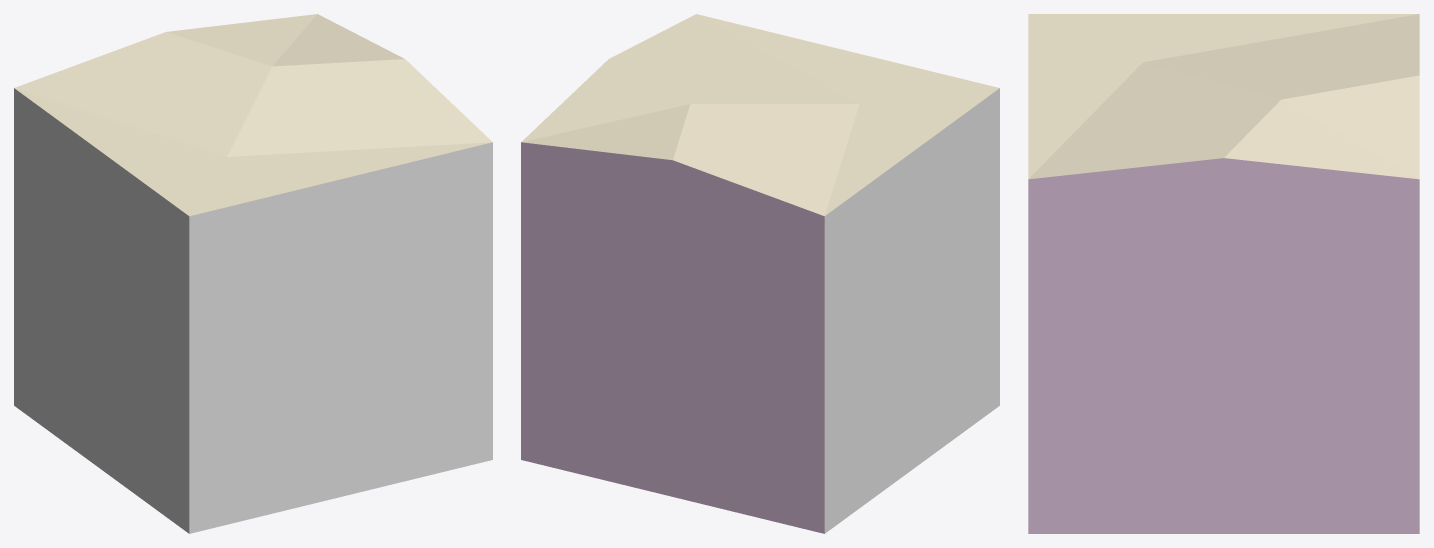
File: Tiered_Walkway_Path_Transition_Curve_Inner_1x1.glb
3 renders of one model, left to right at view 1: azimuth 30°, elevation 25°; view 2: azimuth 150°, elevation 25°; view 3: azimuth 270°, elevation 25°, orthographic. The views are drawn at different scales.
Visible parts, largest first — view 1: Tiered_Walkway_Path_Transition_Curve_Inner_1x1; view 2: Tiered_Walkway_Path_Transition_Curve_Inner_1x1; view 3: Tiered_Walkway_Path_Transition_Curve_Inner_1x1.
Part boxes in pixels (left/top/right/bottom): Tiered_Walkway_Path_Transition_Curve_Inner_1x1: left=14, top=14, right=492, bottom=533; Tiered_Walkway_Path_Transition_Curve_Inner_1x1: left=521, top=14, right=999, bottom=533; Tiered_Walkway_Path_Transition_Curve_Inner_1x1: left=1028, top=14, right=1419, bottom=533.
Bounding box in the file's own units: 100 × 106 × 100.
